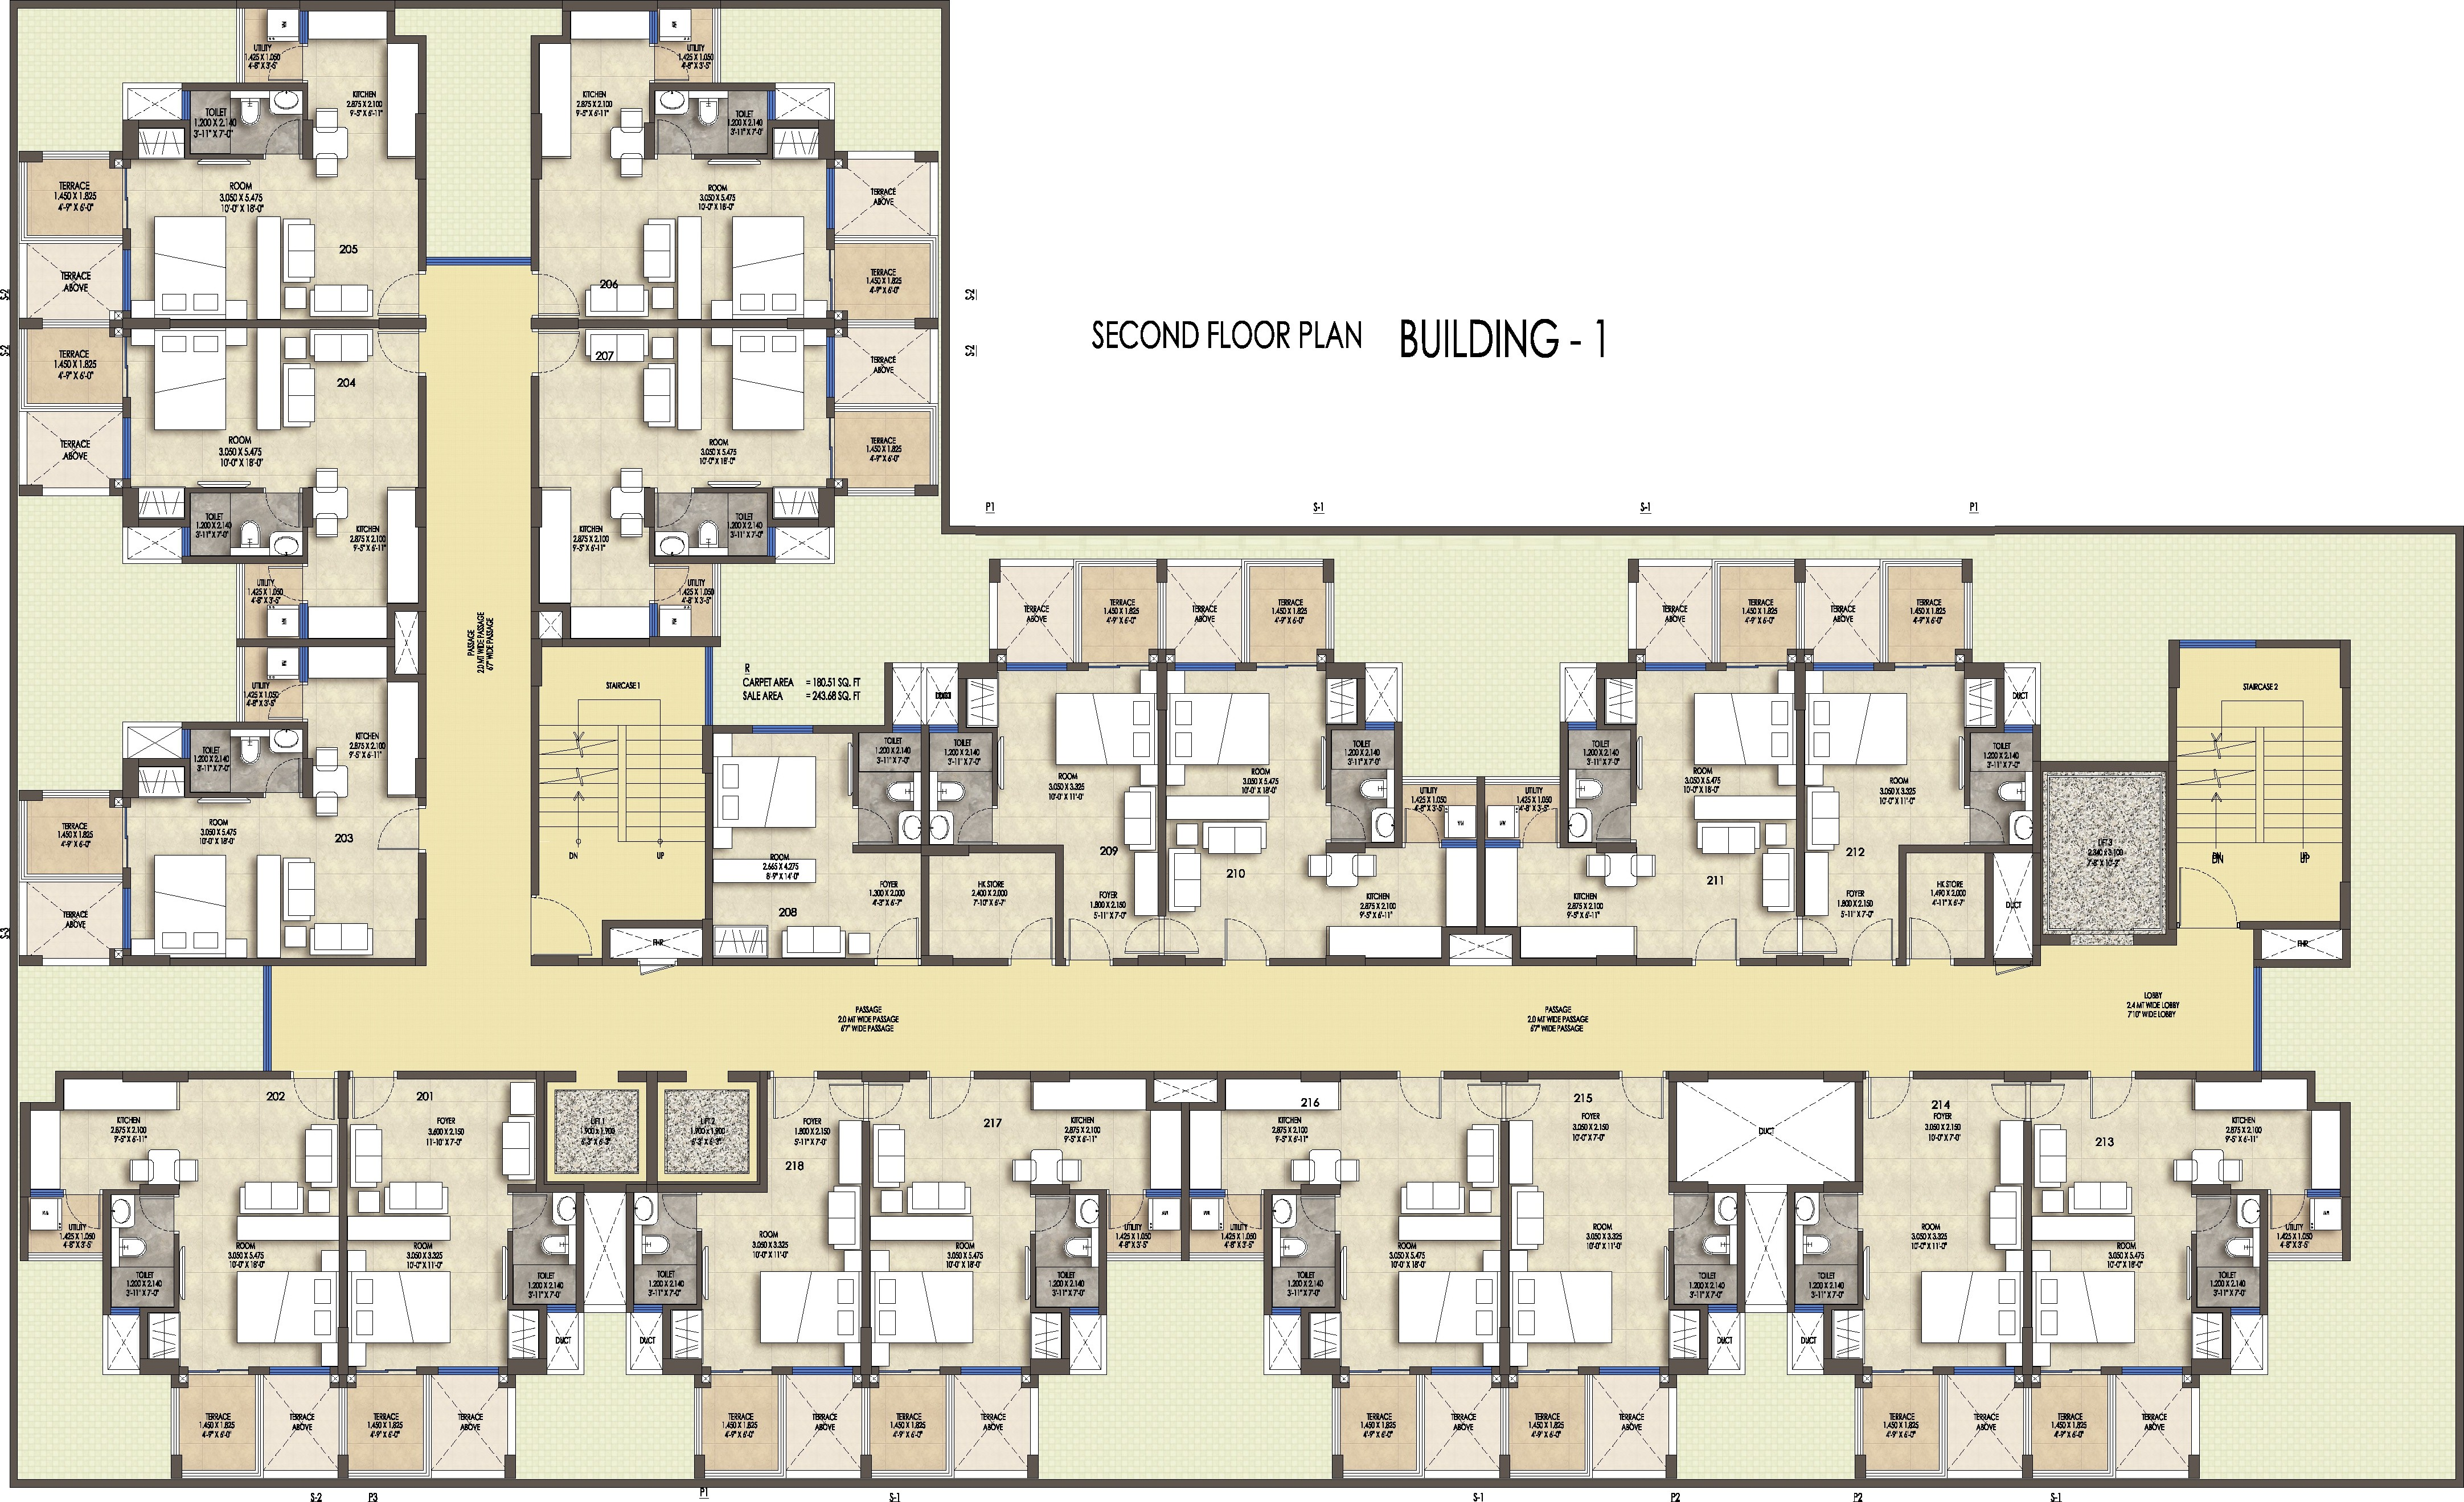window: (260, 963, 275, 1072), (2251, 965, 2263, 1072), (426, 257, 533, 268), (2177, 637, 2256, 652), (40, 787, 111, 803), (234, 562, 248, 641), (1155, 581, 1169, 652), (1322, 581, 1336, 652), (169, 1386, 183, 1456), (702, 646, 715, 725), (1482, 775, 1561, 787), (2265, 1250, 2344, 1263), (234, 646, 246, 724), (750, 722, 815, 736), (2119, 1363, 2184, 1377), (859, 1384, 871, 1458), (692, 1384, 704, 1458), (845, 319, 917, 331), (709, 563, 722, 636), (1853, 1388, 1866, 1458), (1331, 1386, 1343, 1456), (1399, 775, 1478, 785), (435, 1365, 502, 1377), (121, 416, 134, 482), (121, 247, 134, 313), (711, 7, 722, 85), (1188, 1252, 1265, 1263), (1952, 1365, 2017, 1377), (1429, 1365, 1494, 1377), (266, 1365, 331, 1377), (1105, 1252, 1181, 1263), (236, 9, 246, 83), (1005, 660, 1068, 673), (1598, 1365, 1661, 1377), (959, 1365, 1023, 1377), (790, 1365, 854, 1377), (121, 886, 134, 949), (847, 486, 917, 497), (2022, 1386, 2033, 1456), (1500, 1386, 1510, 1456), (42, 150, 111, 160), (42, 319, 111, 329), (1642, 660, 1707, 671), (825, 167, 836, 231), (1811, 662, 1874, 673), (825, 336, 836, 398), (2306, 1187, 2341, 1201), (297, 602, 310, 641), (630, 1301, 664, 1315), (1067, 1307, 1102, 1319), (1566, 720, 1600, 733), (1271, 1305, 1304, 1317), (544, 1303, 577, 1315), (299, 644, 310, 683), (891, 722, 922, 734), (928, 722, 959, 734), (2003, 722, 2035, 734), (1707, 1303, 1739, 1315), (1793, 1303, 1825, 1315), (30, 1189, 67, 1199), (109, 1307, 141, 1317)
